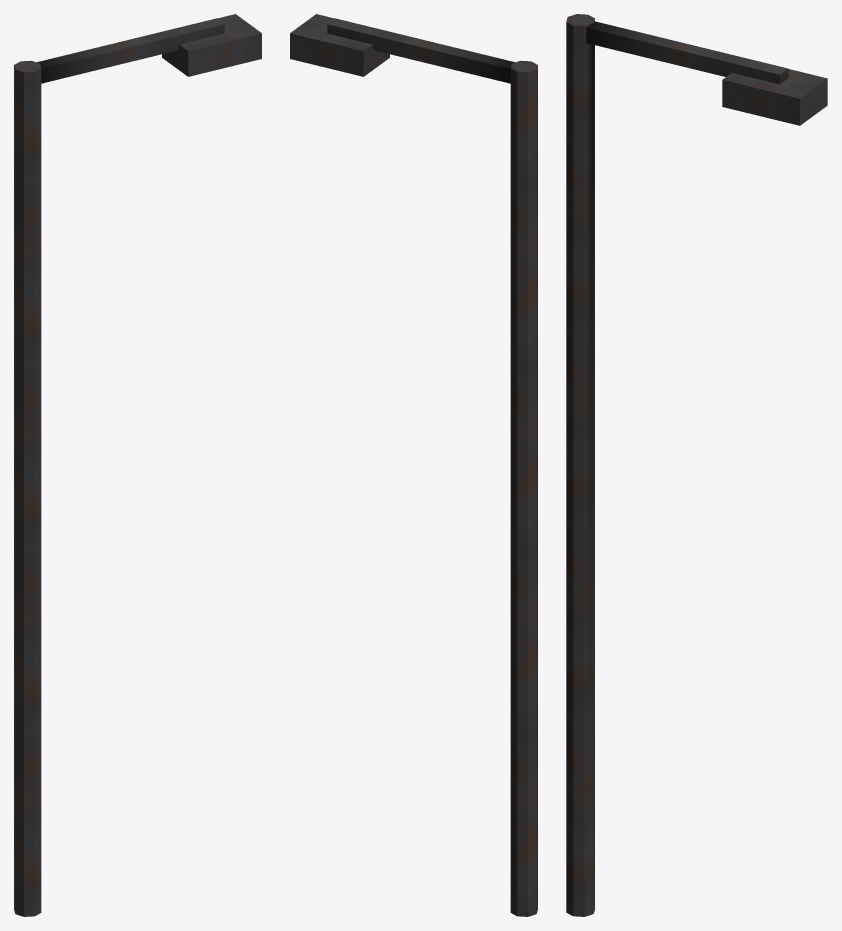
Rendered from street_lamp.glb.
The picture shows the model from 3 angles, left to right: view 1: azimuth 30°, elevation 25°; view 2: azimuth 150°, elevation 25°; view 3: azimuth 330°, elevation 25°; orthographic projection. The views are drawn at different scales.
Parts seen in each view (by area): view 1: street_lamp; view 2: street_lamp; view 3: street_lamp.
Part boxes in pixels (left/top/right/bottom): street_lamp: left=14, top=14, right=261, bottom=916; street_lamp: left=290, top=14, right=537, bottom=916; street_lamp: left=566, top=14, right=827, bottom=916.
Size of the model in its own units: 1.33 by 4.6 by 0.26.
Materials: 2 (2 with a texture image).
